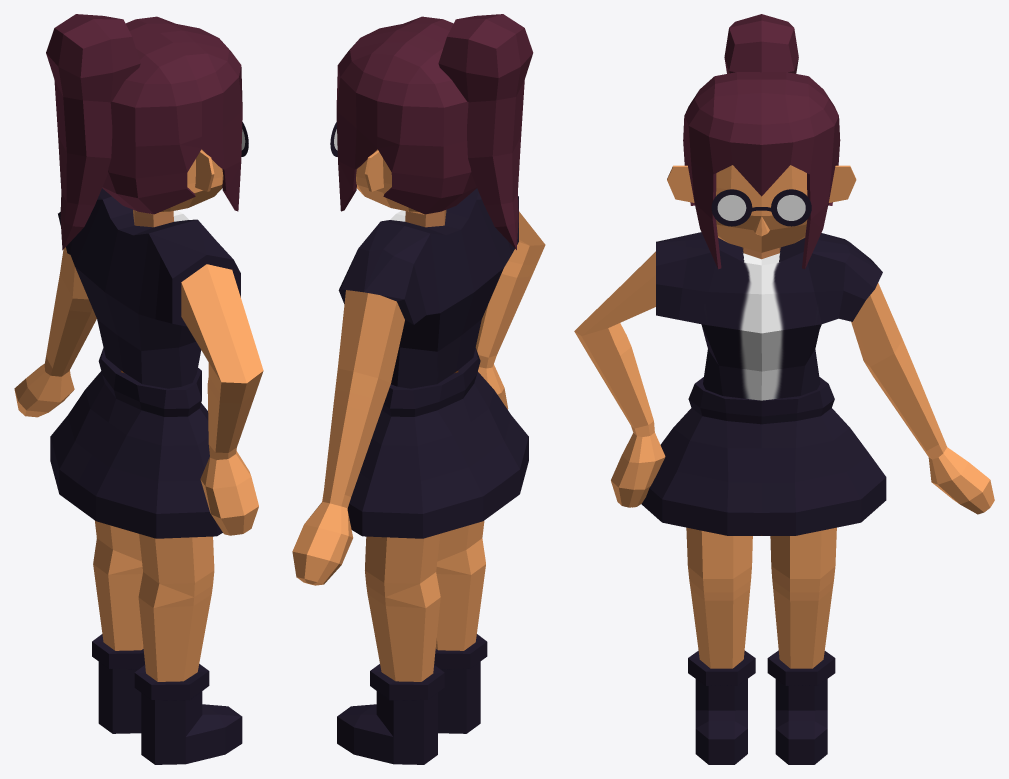
Rendered from Teacher.fbx.
3 views of the same model, side by side, from view 1: azimuth 30°, elevation 25°; view 2: azimuth 150°, elevation 25°; view 3: azimuth 270°, elevation 25° (orthographic). The views are drawn at different scales.
Parts seen in each view (by area): view 1: Pony.003; view 2: Pony.003; view 3: Pony.003, Circle.
Part boxes in pixels (x1,y1,x2,y2): Pony.003: [14, 14, 263, 764]; Pony.003: [292, 14, 545, 764]; Pony.003: [574, 14, 994, 764]; Circle: [711, 189, 811, 226].
Size of the model in its own units: 97.48 by 396 by 219.
